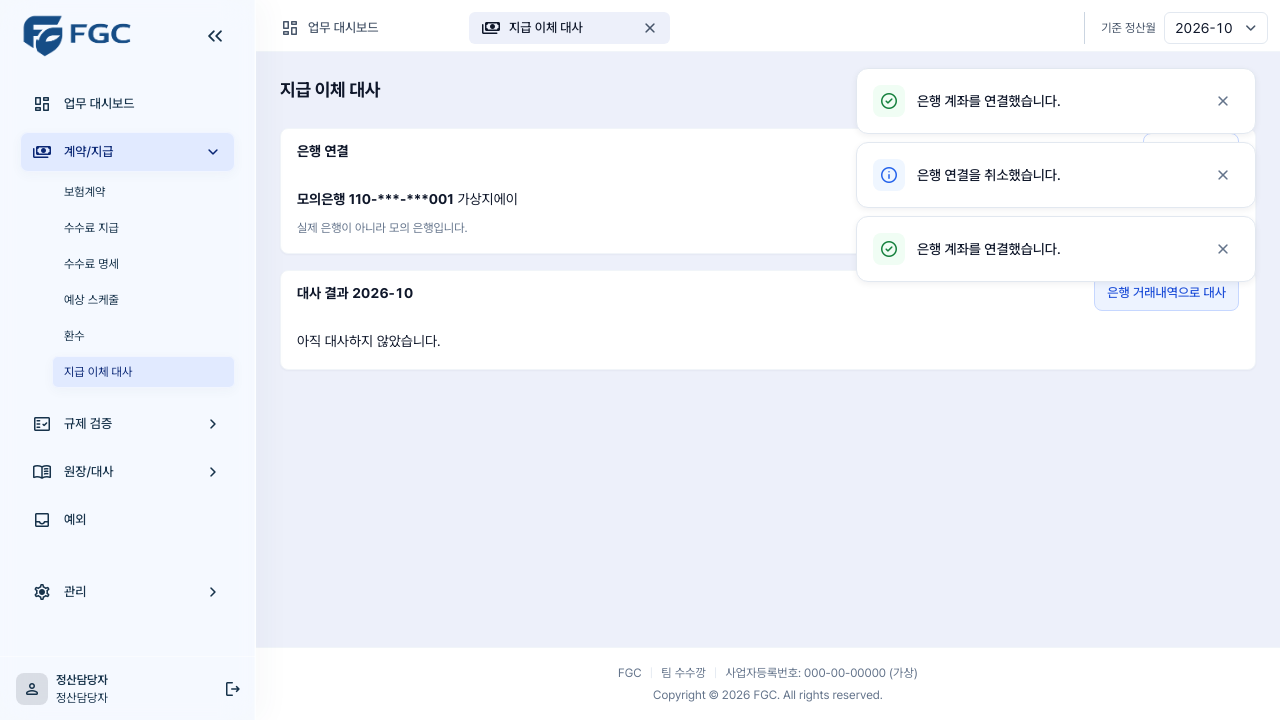
it: BANK-W01 지급 이체 대사 › 서버가 대사를 거절하면 그 이유를 보여 준다
The image size is (1280, 720).
Click the button "은행 거래내역으로 대사": (1167, 293) [1094,275,1239,311]
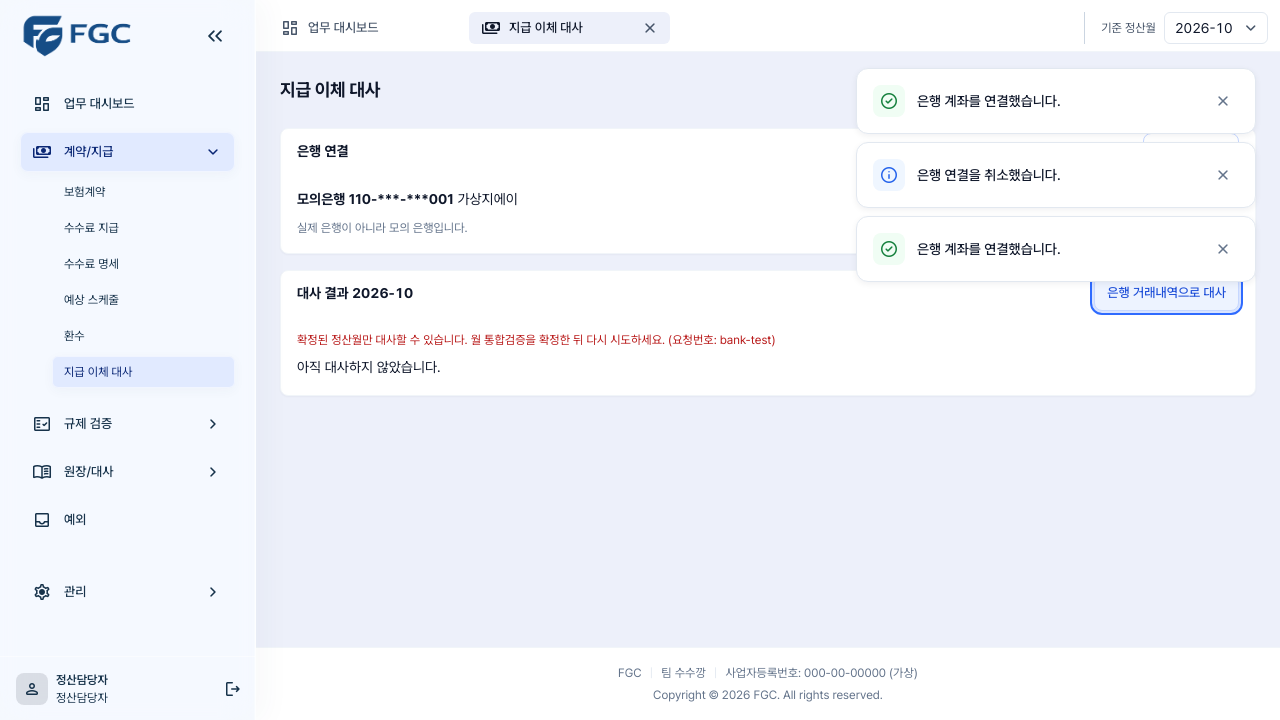
expect the message "확정된 정산월만 대사할 수 있습니다. 월 통합검증을 확정한 뒤 다시 시도하세요. (요청번호: bank-test)" is shown: met, box [297,333,776,347]
